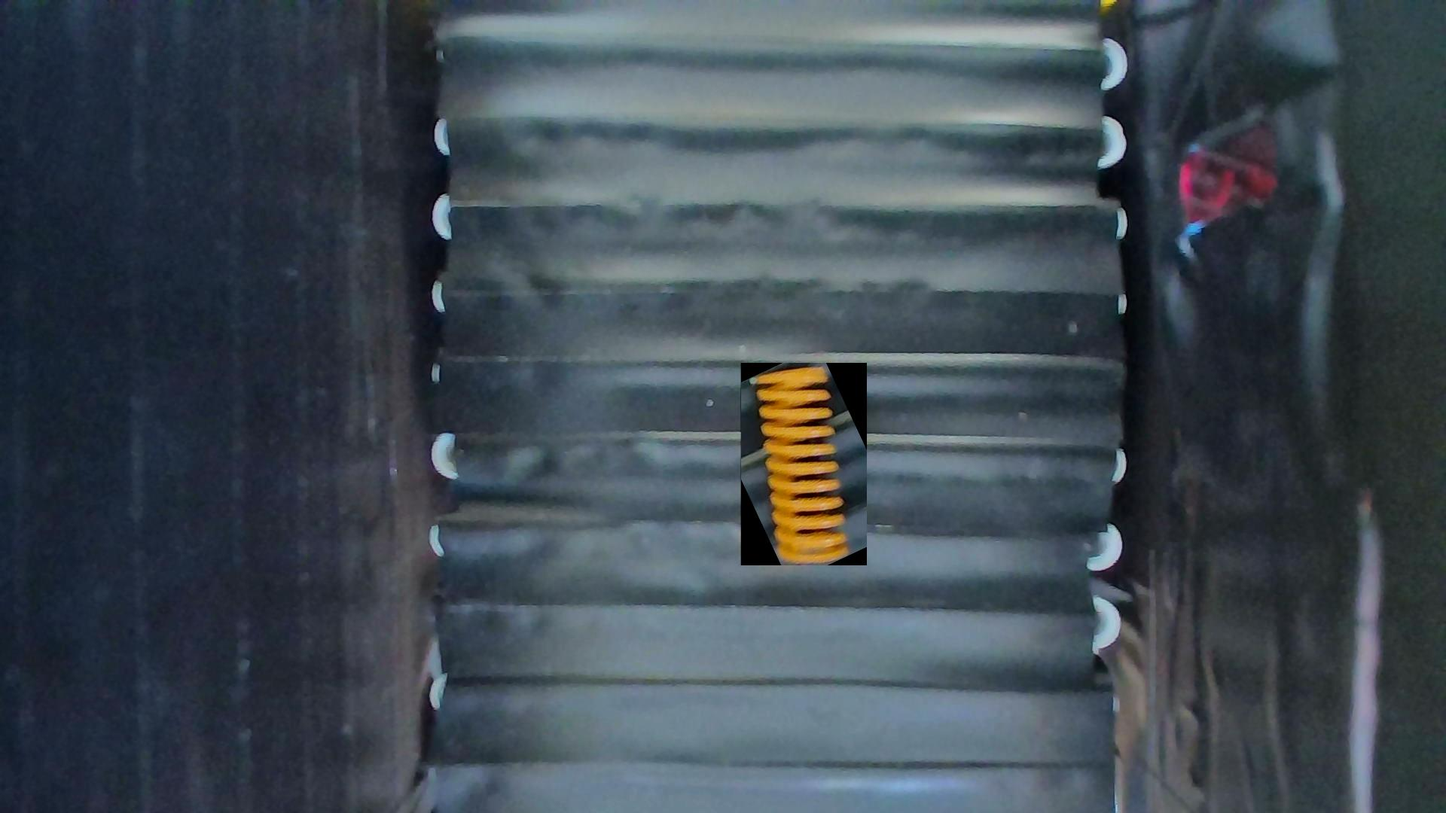spring: (740, 363, 866, 566)
